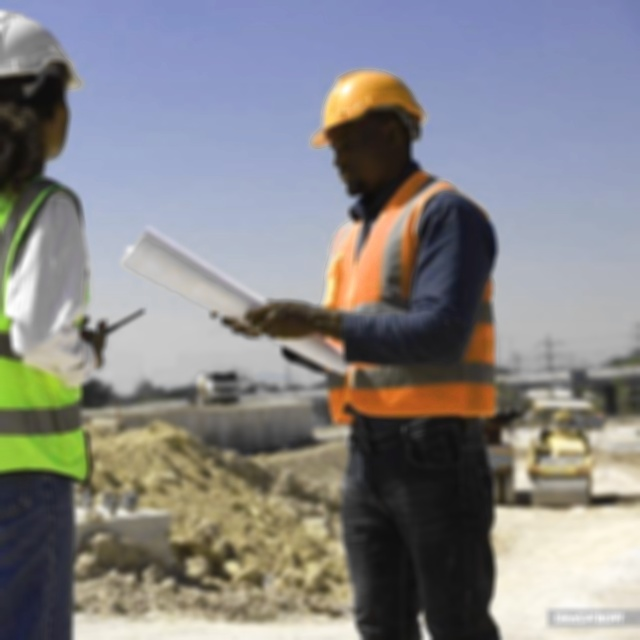Con_Chaleco: (322, 174, 499, 430), (0, 172, 98, 476)
